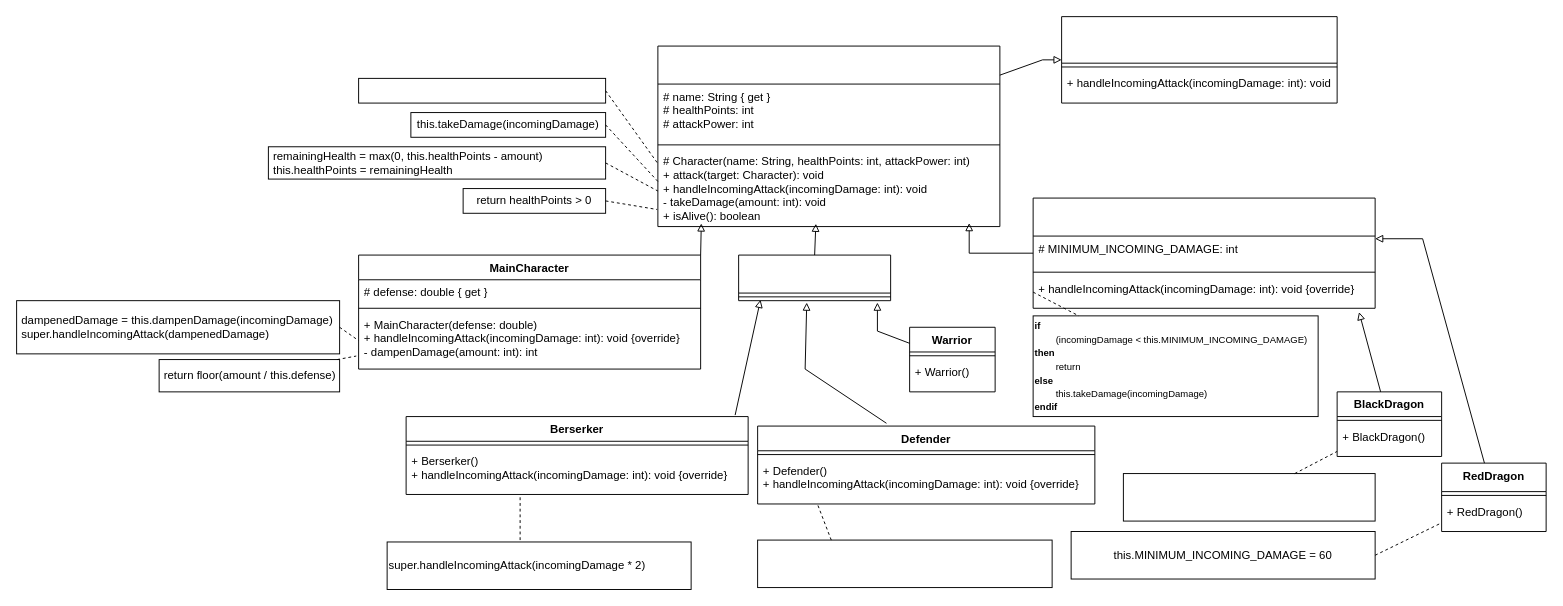
Some shapes in this 1563 by 606 pixel diagram are drawn without their labels. Here are the shapes that lost their labels. From the top down, the box of each, then its label:
(1061, 16, 1337, 103): <<interface>> Attackable
(358, 77, 606, 103): target.handleIncomingAttack(this.attackPower)
(657, 45, 1000, 227): <<abstract>> Character
(1032, 197, 1375, 308): <<abstract>> Dragon
(738, 254, 891, 301): <<abstract>> Orc
(1122, 473, 1375, 521): this.MINIMUM_INCOMING_DAMAGE = 20
(757, 539, 1052, 588): super.handleIncomingAttack(floor(incomingDamage / 2))
